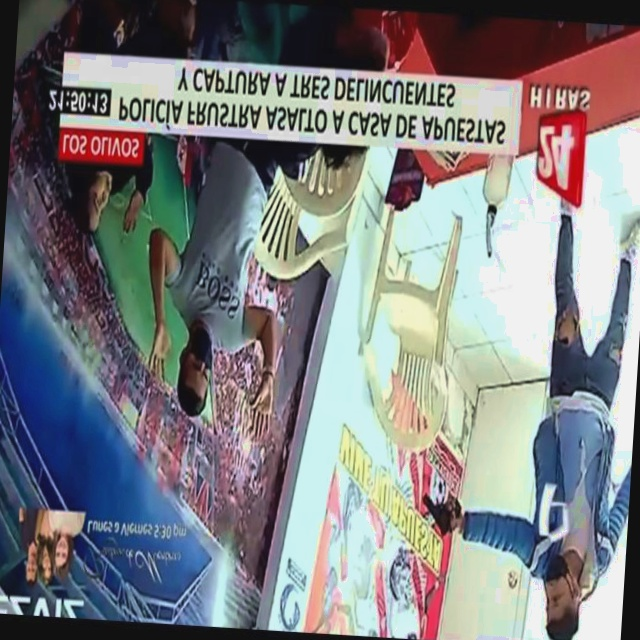gun: (415, 473, 470, 543)
